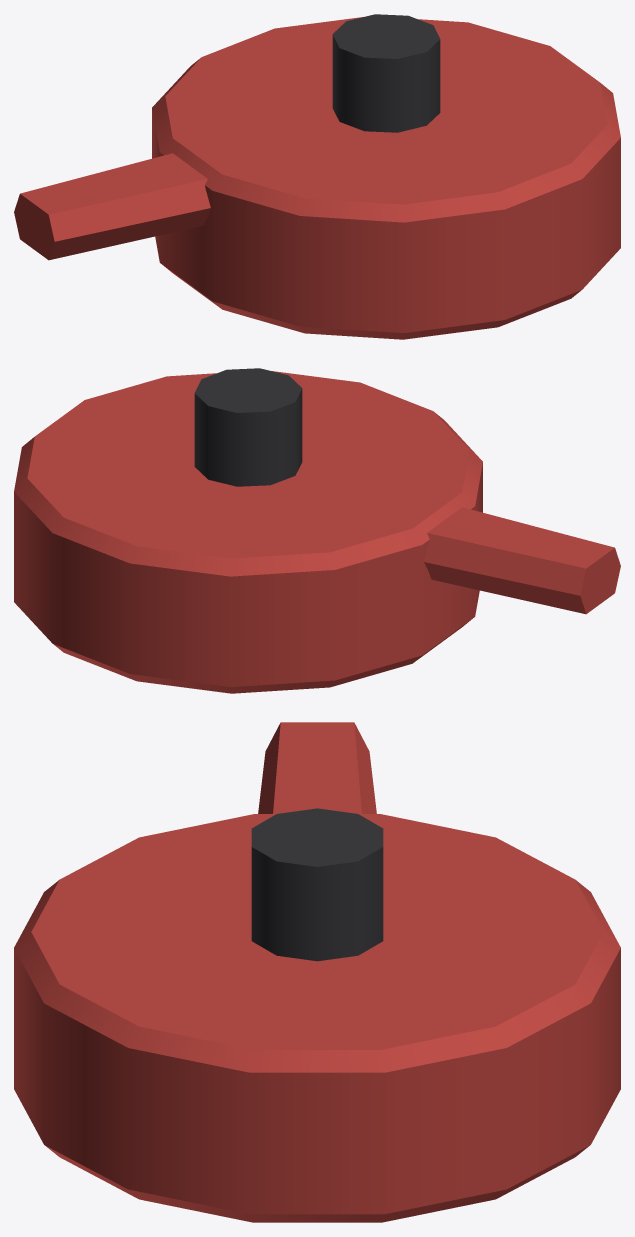
Rendered from rotary_lod1.glb.
3 renders of one model, top to bottom at view 1: azimuth 30°, elevation 25°; view 2: azimuth 150°, elevation 25°; view 3: azimuth 270°, elevation 25°, orthographic. The views are drawn at different scales.
Visible parts, largest first — view 1: rotary_lod1; view 2: rotary_lod1; view 3: rotary_lod1.
Boxes of the visible parts, x1=… form: rotary_lod1: x1=14, y1=14, x2=620, y2=339; rotary_lod1: x1=14, y1=368, x2=620, y2=693; rotary_lod1: x1=14, y1=722, x2=620, y2=1222.
Bounding box in the file's own units: 0.0941 × 0.034 × 0.07.
